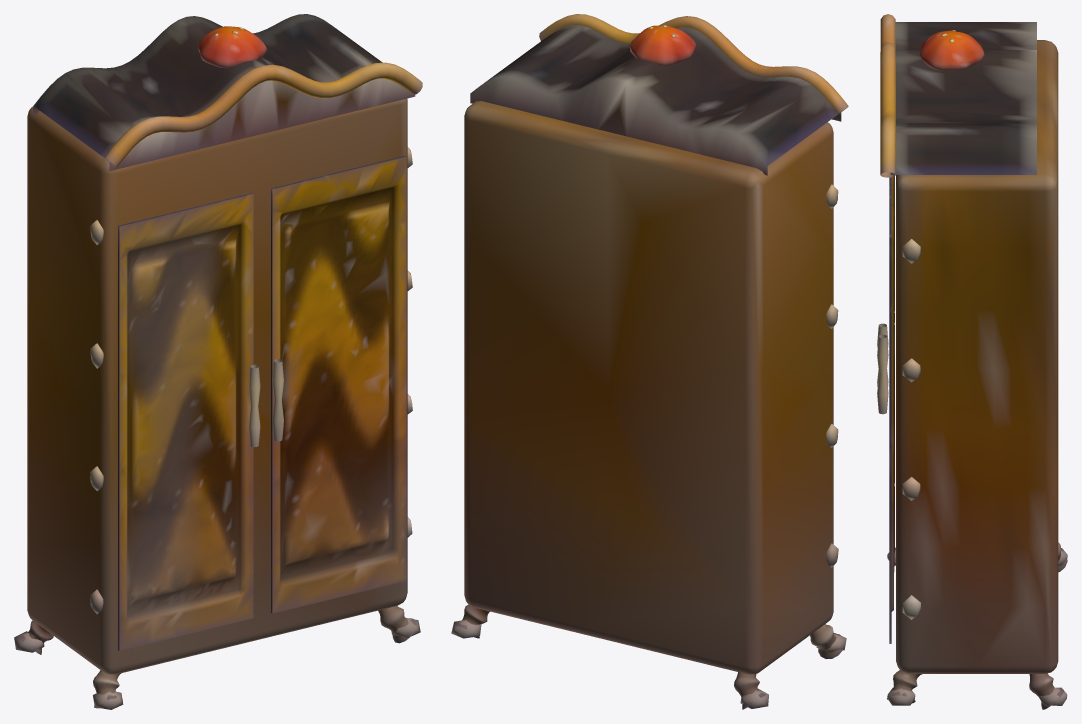
File: gaudi_dolap.glb
3 views of the same model, side by side, from view 1: azimuth 30°, elevation 25°; view 2: azimuth 150°, elevation 25°; view 3: azimuth 270°, elevation 25° (orthographic). The views are drawn at different scales.
Visible parts, largest first — view 1: gaudi_dolap_LOD0; view 2: gaudi_dolap_LOD0; view 3: gaudi_dolap_LOD0.
Boxes of the visible parts, box(x1,y1,x2,y2) form: gaudi_dolap_LOD0: box(14, 14, 422, 709); gaudi_dolap_LOD0: box(451, 14, 848, 709); gaudi_dolap_LOD0: box(877, 14, 1067, 709).
Size of what is drawn, in the model's own units: 1.38 by 2.55 by 0.7283.
